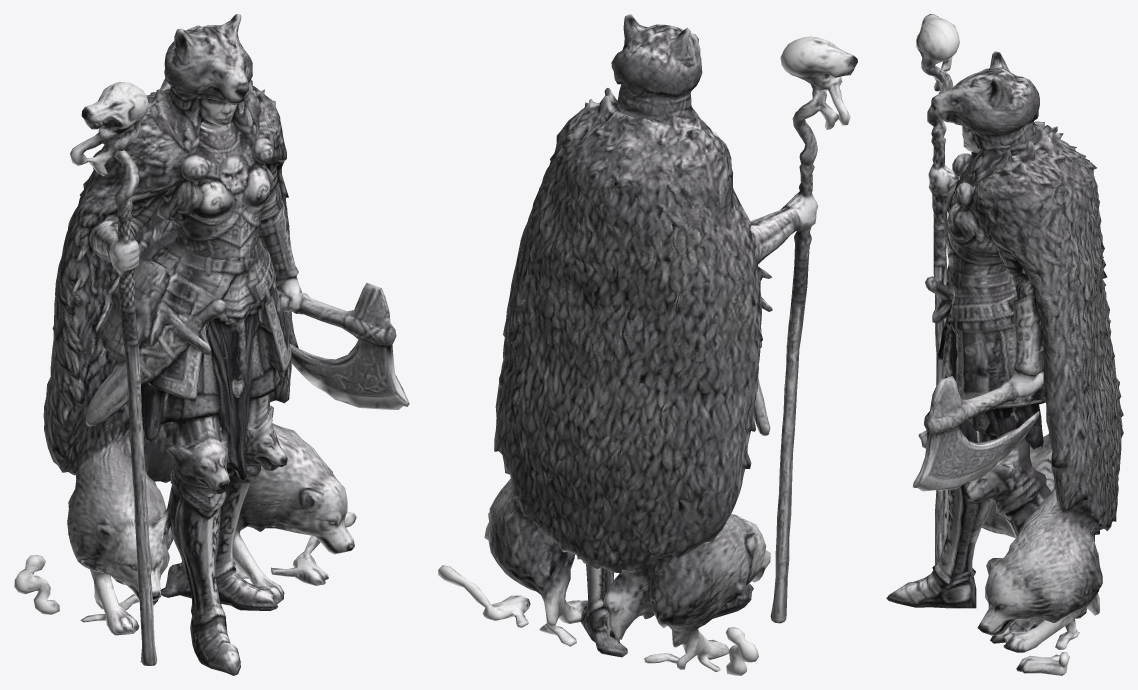
The model's file is Wodan_Wölfin.glb.
The picture shows the model from 3 angles, left to right: view 1: azimuth 30°, elevation 25°; view 2: azimuth 150°, elevation 25°; view 3: azimuth 270°, elevation 25°; orthographic projection. The views are drawn at different scales.
Size of the model in its own units: 1.15 by 1.91 by 0.7436.
1 material, 1 textured.
